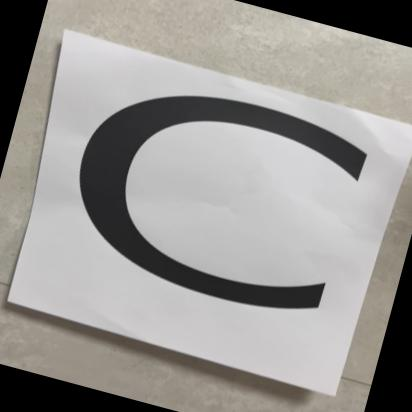seat: (0, 18, 412, 406)
